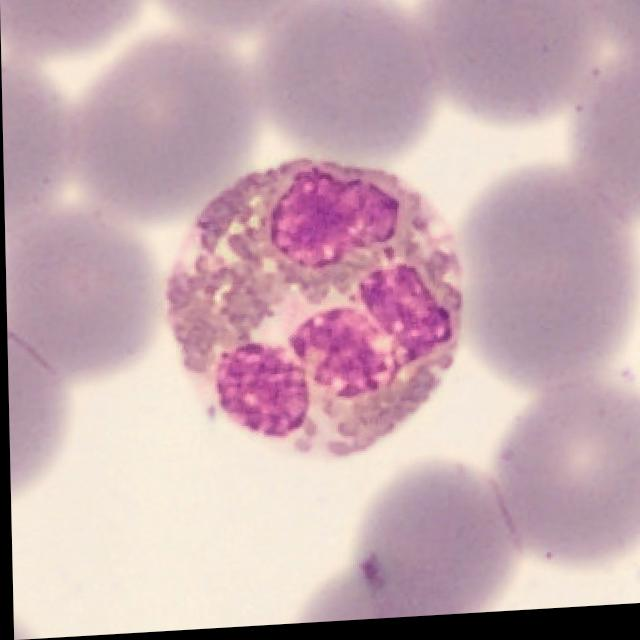Eosinofilo: (163, 163, 464, 464)
